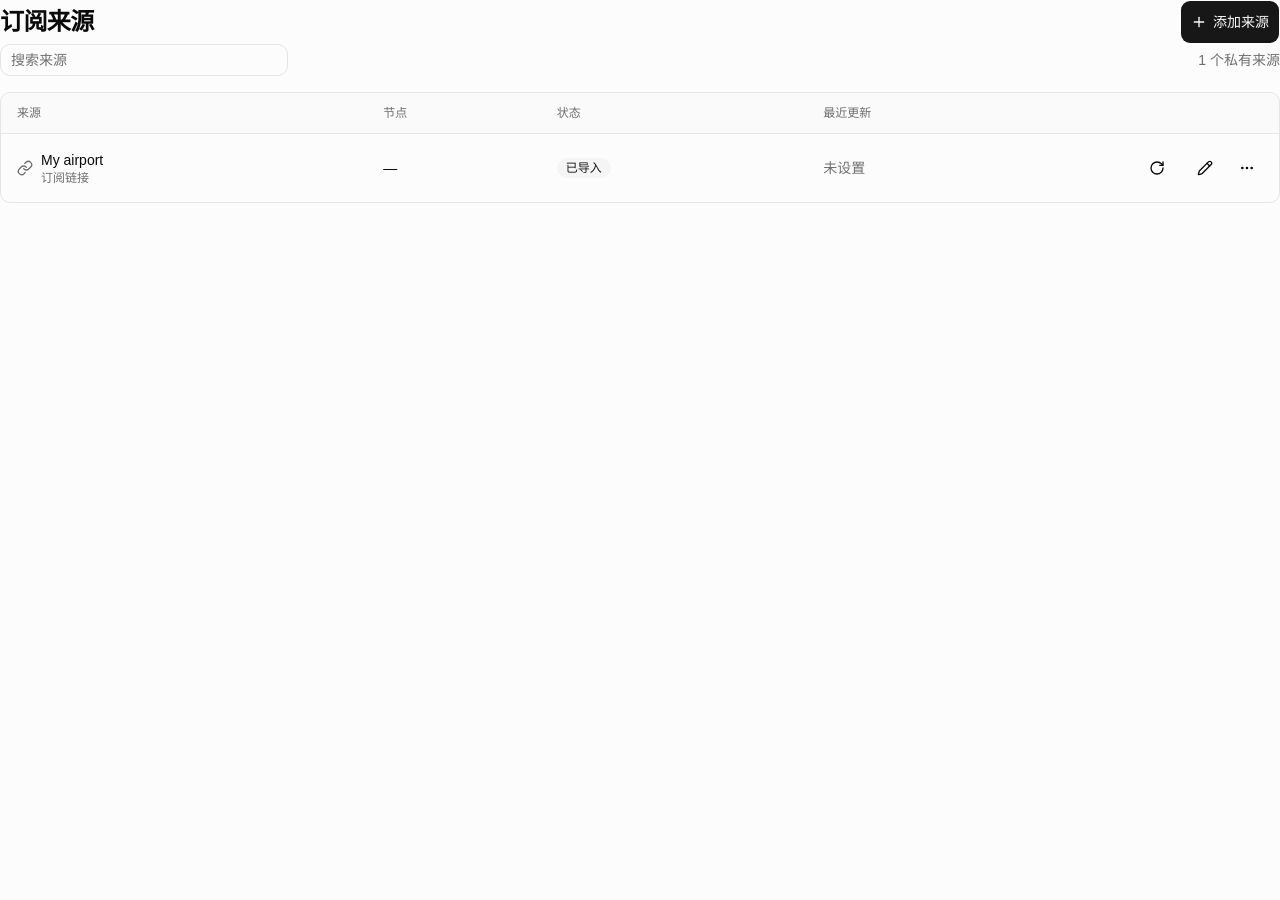
Scenario: keeps source deletion under More and names references that must be removed first
The image size is (1280, 900).
Expected: the button named "刷新 My airport" is shown, [1135,146,1179,190]
Expected: the button named "编辑 My airport" is shown, [1183,146,1227,190]
Click the button named "更多操作 My airport": (1247, 168) [1231,152,1263,184]
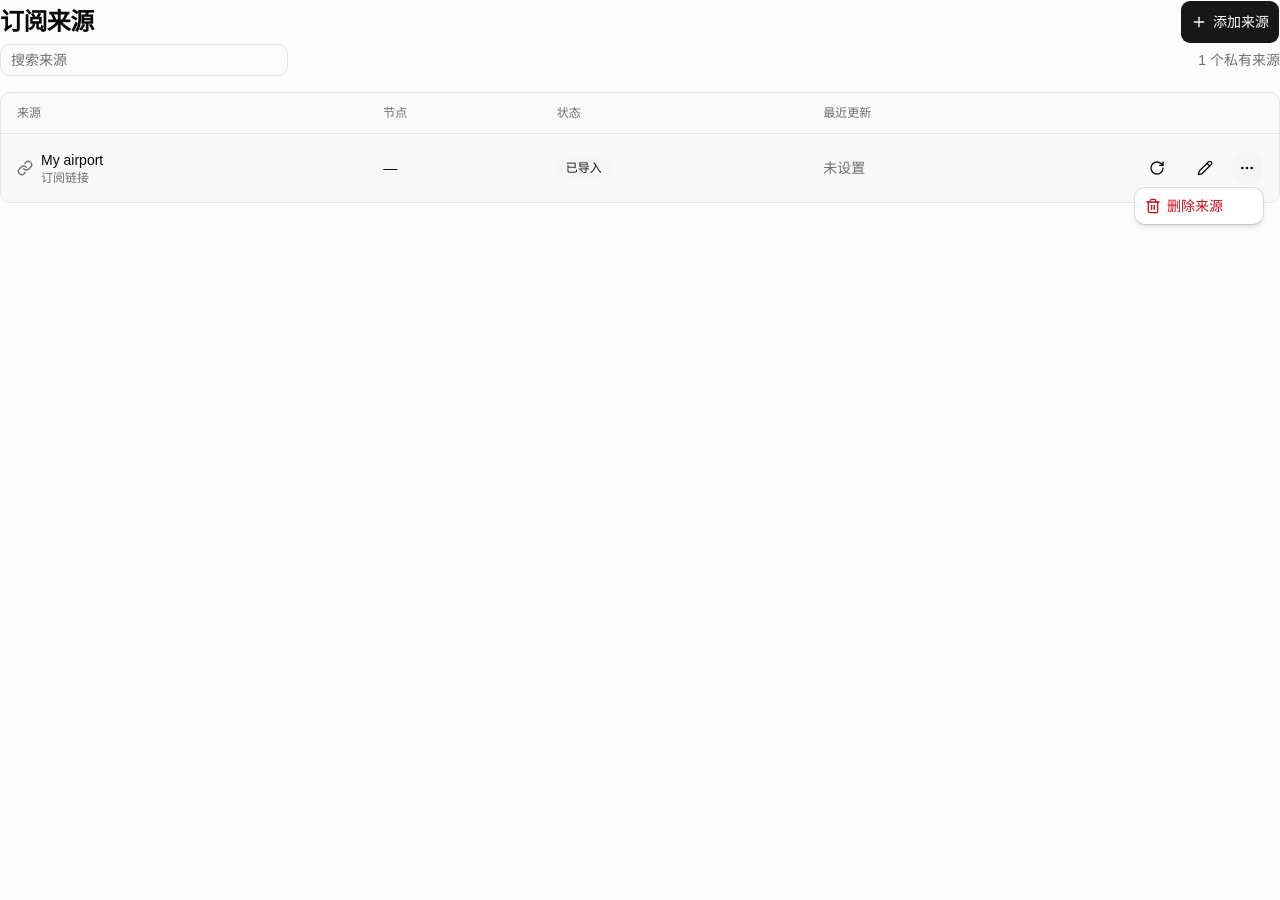
Click the menu item "删除来源": (1184, 206) [1145,198,1223,214]
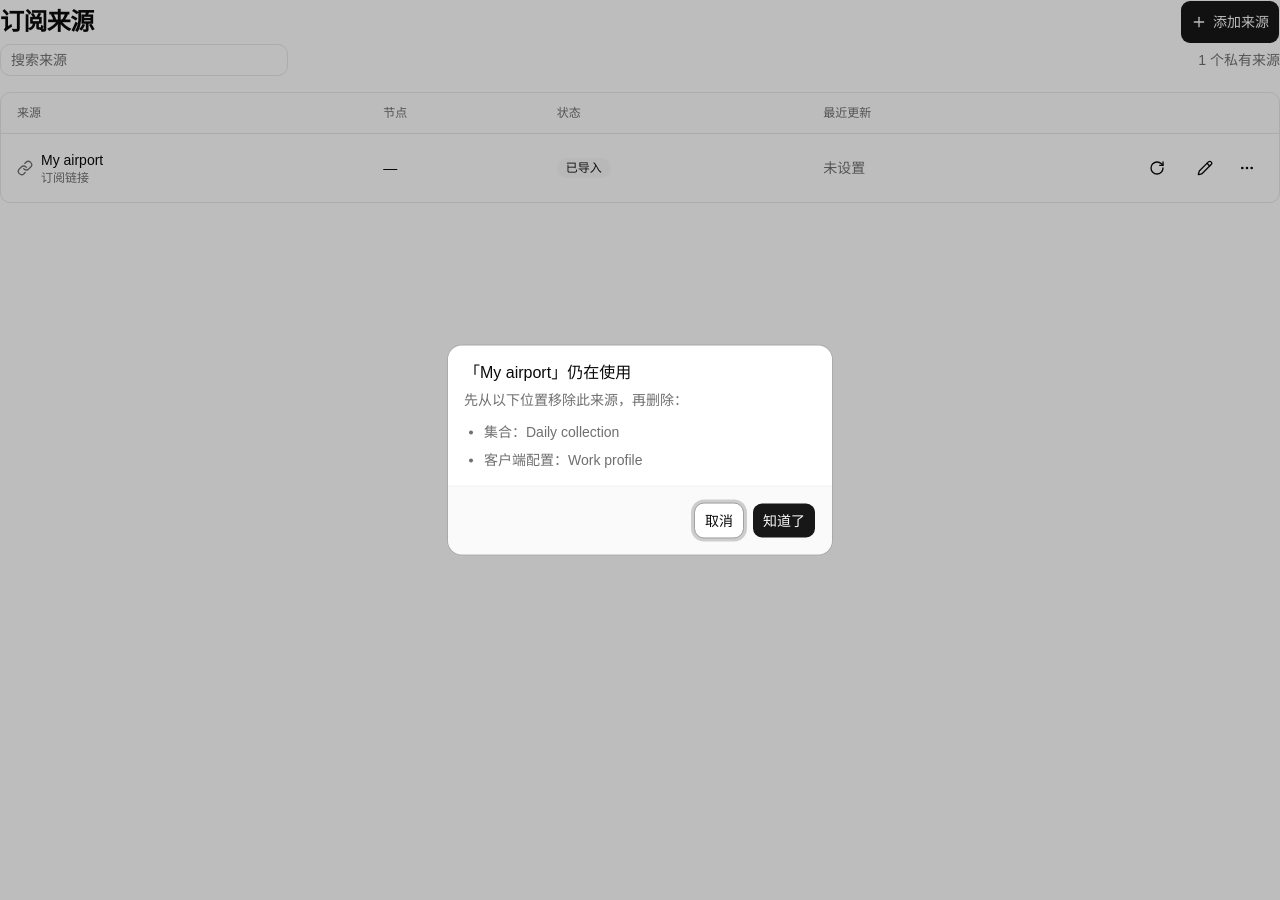
Expected: the dialog shows "「My airport」仍在使用", [464,364,631,380]
Expected: the list item "集合：Daily collection" is shown, [484,424,619,440]
Expected: the list item "客户端配置：Work profile" is shown, [484,452,642,468]
